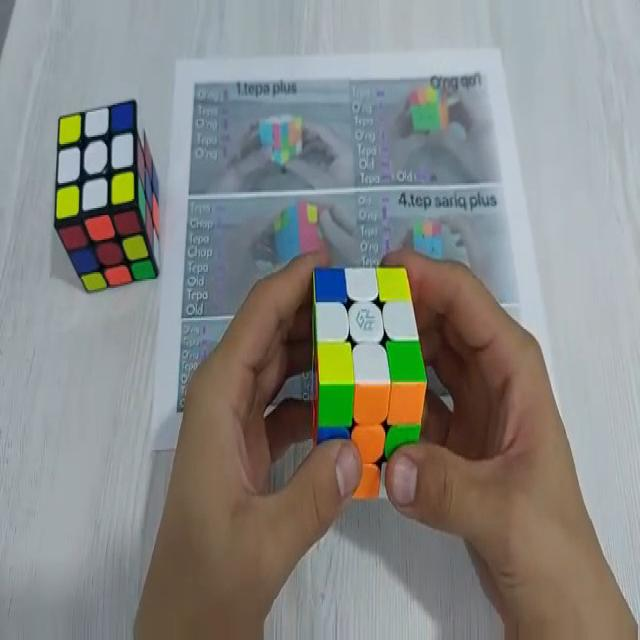Rub: (310, 260, 427, 504), (54, 97, 159, 293)
